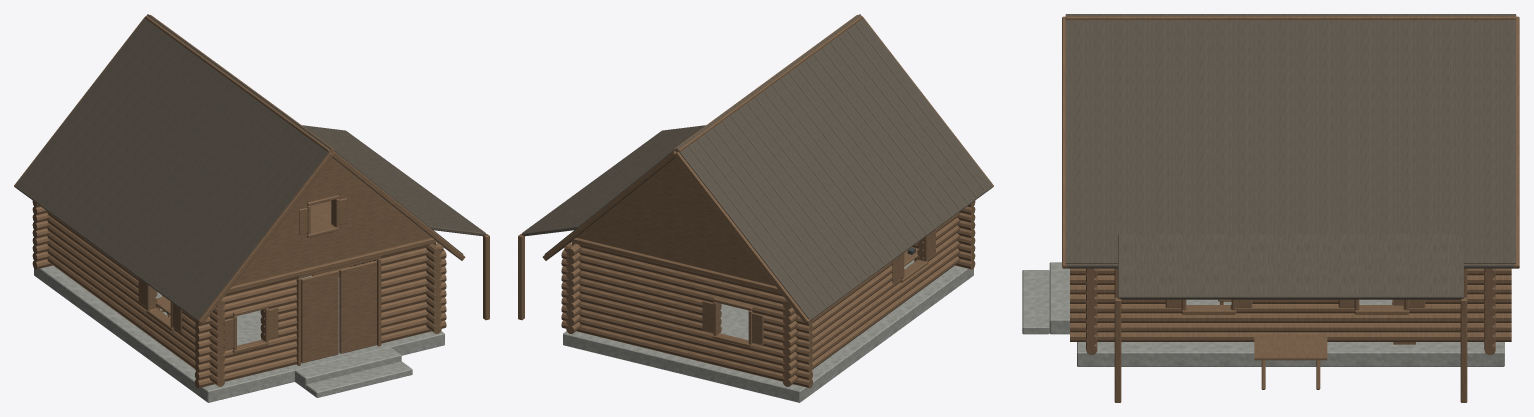
The picture shows the model from 3 angles, left to right: view 1: azimuth 30°, elevation 25°; view 2: azimuth 150°, elevation 25°; view 3: azimuth 270°, elevation 25°; orthographic projection. The views are drawn at different scales.
Parts seen in each view (by area): view 1: W01_roof_left, W01_wall_front, W01_foundation, W01_gable_front, W01_wall_left, W01_canopy, W01_entry_leaf0, W01_entry_leaf1, W01_verge_-1_-1, W01_wall_right, W01_ridge, W01_wall_rear (+3 smaller); view 2: W01_roof_left, W01_wall_rear, W01_gable_rear, W01_foundation, W01_wall_left, W01_canopy, W01_verge_1_-1, W01_wall_right, W01_ridge, W01_wall_front, W01_canopy_post_3.5_-3.8, W01_roof_right; view 3: W01_roof_right, W01_canopy, W01_wall_right, W01_foundation, sawhorse_leg, W01_canopy_post_3.5_-3.8, W01_ridge, W01_wall_rear, W01_wall_front, W01_verge_1_-1, W01_verge_-1_-1, W01_roof_left.
Boxes of the visible parts, box(x1,y1,x2,y2) form: W01_roof_left: box(15, 14, 331, 320); W01_wall_front: box(194, 195, 446, 388); W01_foundation: box(34, 265, 444, 402); W01_gable_front: box(232, 158, 431, 286); W01_wall_left: box(47, 212, 224, 386); W01_canopy: box(302, 125, 486, 236); W01_entry_leaf0: box(301, 270, 338, 363); W01_entry_leaf1: box(339, 260, 376, 353); W01_verge_-1_-1: box(197, 151, 465, 324); W01_wall_right: box(350, 243, 441, 333); W01_ridge: box(145, 15, 334, 152); W01_wall_rear: box(32, 201, 52, 269); W01_roof_left: box(676, 14, 992, 320); W01_wall_rear: box(561, 237, 813, 388); W01_gable_rear: box(576, 158, 775, 286); W01_foundation: box(563, 260, 973, 402); W01_wall_left: box(783, 212, 960, 386); W01_canopy: box(521, 125, 705, 236); W01_verge_1_-1: box(542, 151, 810, 324); W01_wall_right: box(566, 243, 581, 333); W01_ridge: box(673, 15, 862, 152); W01_wall_front: box(911, 201, 975, 269); W01_canopy_post_3.5_-3.8: box(518, 234, 524, 320); W01_roof_right: box(544, 14, 859, 256); W01_roof_right: box(1065, 14, 1515, 268); W01_canopy: box(1118, 232, 1463, 299); W01_wall_right: box(1070, 268, 1511, 341); W01_foundation: box(1022, 262, 1504, 366); sawhorse_leg: box(1254, 335, 1327, 389); W01_canopy_post_3.5_-3.8: box(1114, 268, 1467, 402); W01_ridge: box(1065, 14, 1516, 21); W01_wall_rear: box(1484, 268, 1495, 354); W01_wall_front: box(1086, 268, 1097, 354); W01_verge_1_-1: box(1513, 16, 1519, 268); W01_verge_-1_-1: box(1062, 16, 1067, 268); W01_roof_left: box(1066, 14, 1515, 14).
Size of the model in its own units: 9.71 by 6.84 by 10.92.
Materials: 4 (3 with a texture image).
